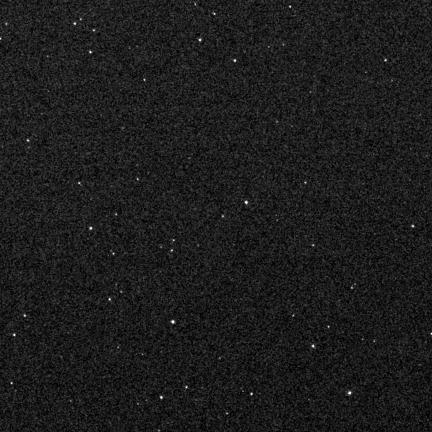blob: (171, 320, 176, 324), (160, 396, 164, 400), (245, 201, 249, 205), (234, 59, 237, 63), (90, 227, 93, 231)
